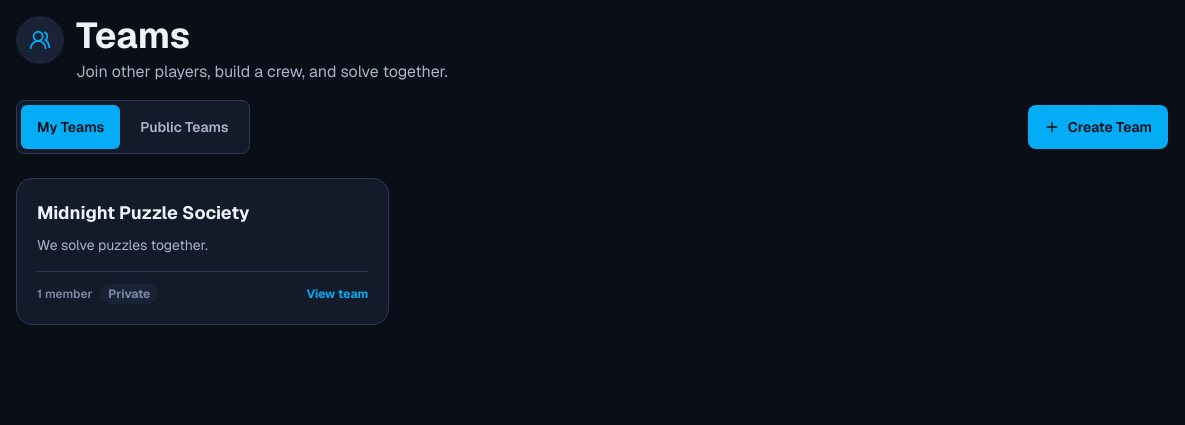
it: Teams hub page — empty states › 61. authenticated Public empty state is correct
This screenshot has width=1185, height=425.
Click the button with test id "teams-hub-view-public".
click(184, 127)  # box [124,105,244,149]
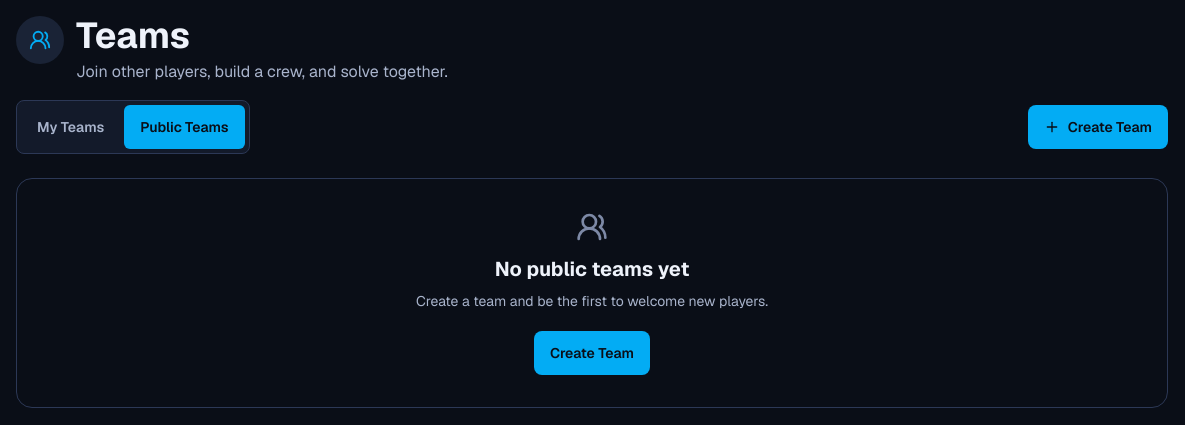
Expected: the heading "No public teams yet" is shown, [495,256,689,282]
Expected: the text "Create a team and be the first to welcome new players." is shown, [416,292,768,310]
